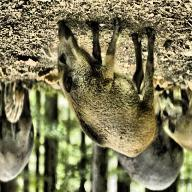boar: (47, 17, 166, 152)
